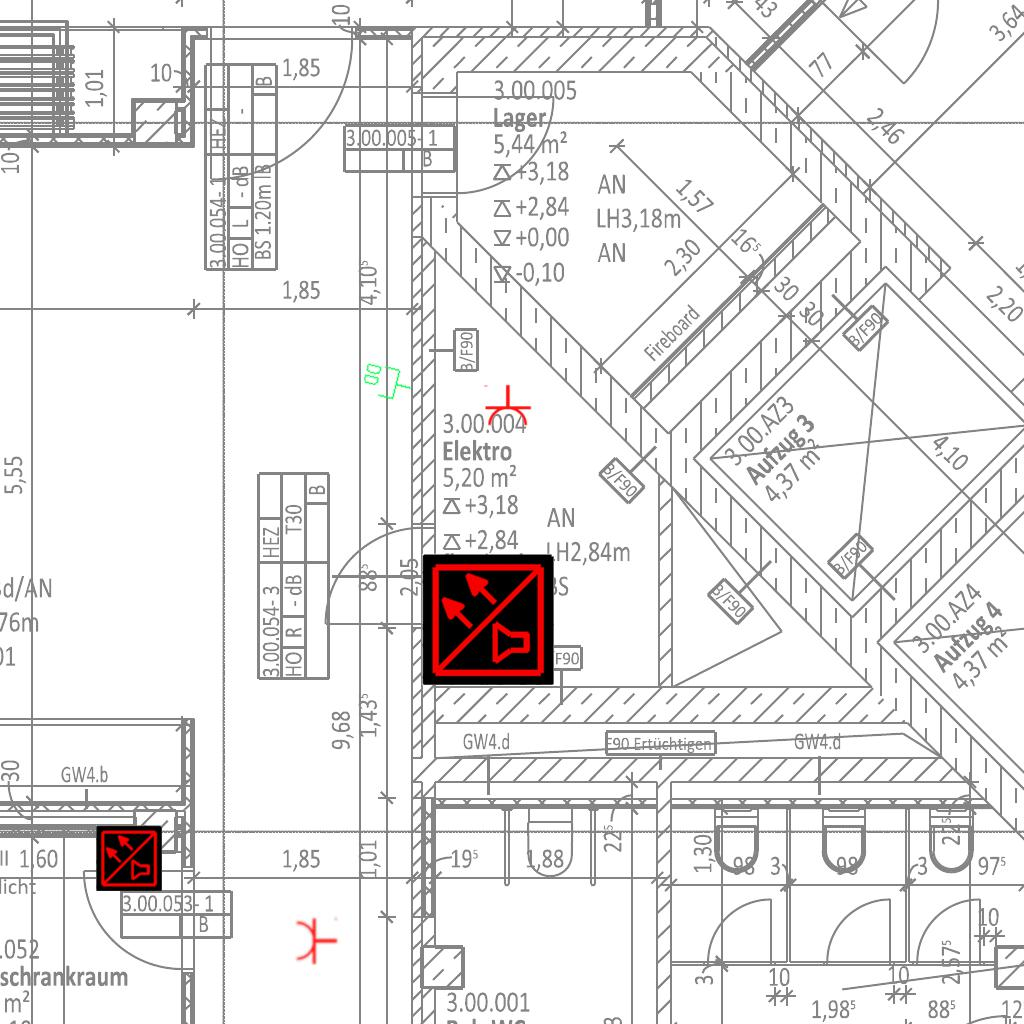Datenanschluss_zweifach: (358, 359, 417, 405)
OKW_Multisensormelder_(Kombination_optischer_Rauch-Kahlenmonoxid_Waerme-Melder): (422, 553, 554, 685), (96, 825, 162, 891)
Schukosteckdose_einfach: (482, 384, 532, 427), (295, 915, 338, 965)
